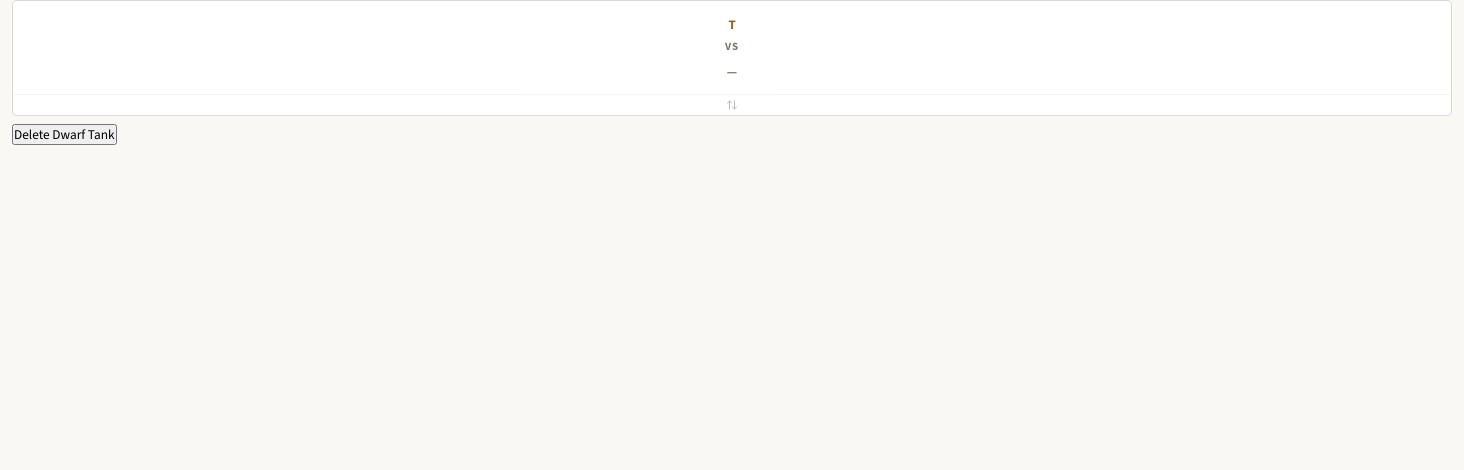
Test case: NavBarCharacterCard › shows initials in the collapsed rail
This screenshot has width=1464, height=470.
Expected: the button named "Viewed build: " reads "T", [17,7,1447,41]
What coordinates should you click on to do the following:
click the button "—"
I would click on:
 (732, 71)
Its box is [17,54,1447,88].
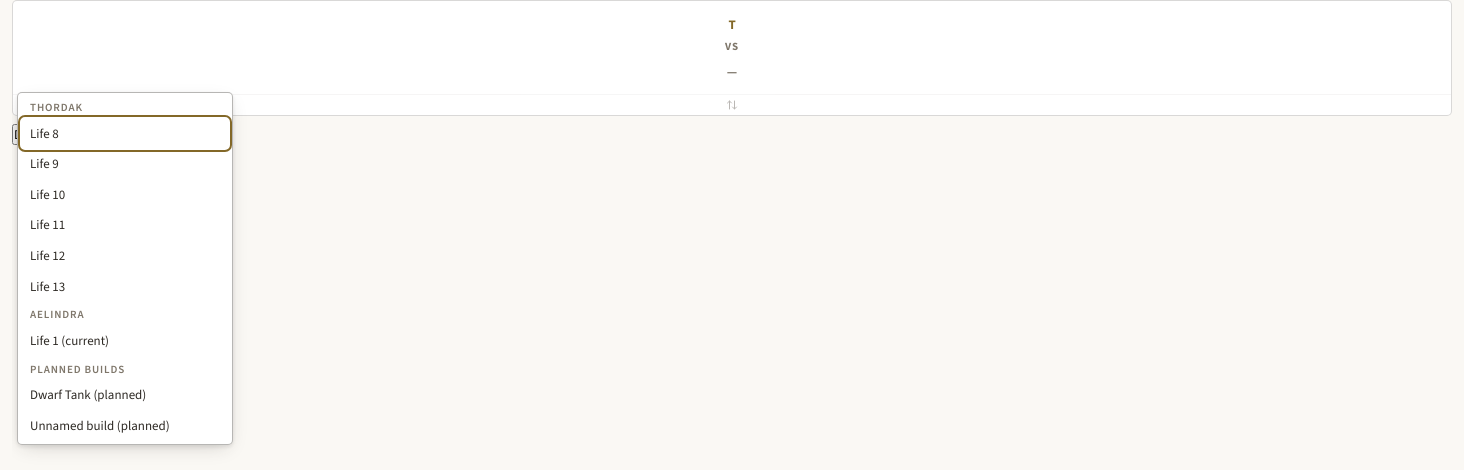
What coordinates should you click on to do the following:
click the button "Life 1 (current)"
I would click on:
 (125, 341)
Its box is [22,326,228,356].
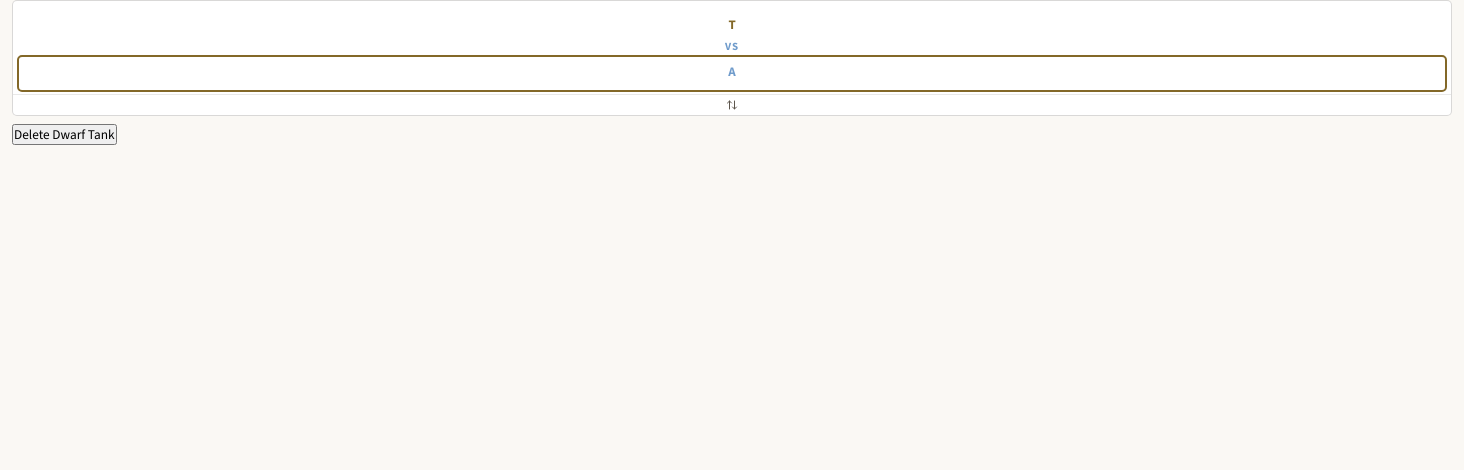
Expected: the button "A" is shown, [17,54,1447,88]
